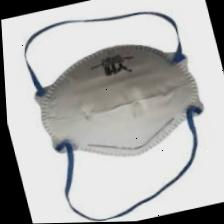mask: (13, 0, 221, 224)
